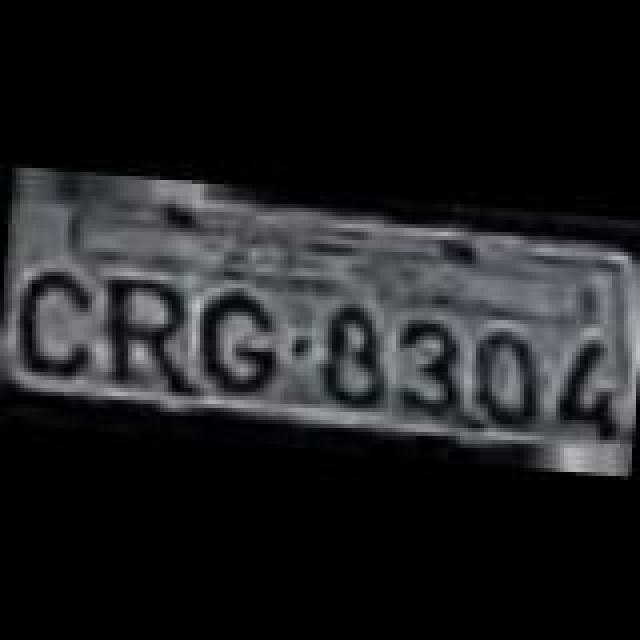3: (382, 310, 466, 418)
4: (548, 324, 628, 444)
8: (316, 302, 388, 410)
C: (10, 266, 102, 390)
G: (184, 280, 280, 400)
O: (470, 320, 554, 432)
R: (98, 270, 198, 394)
